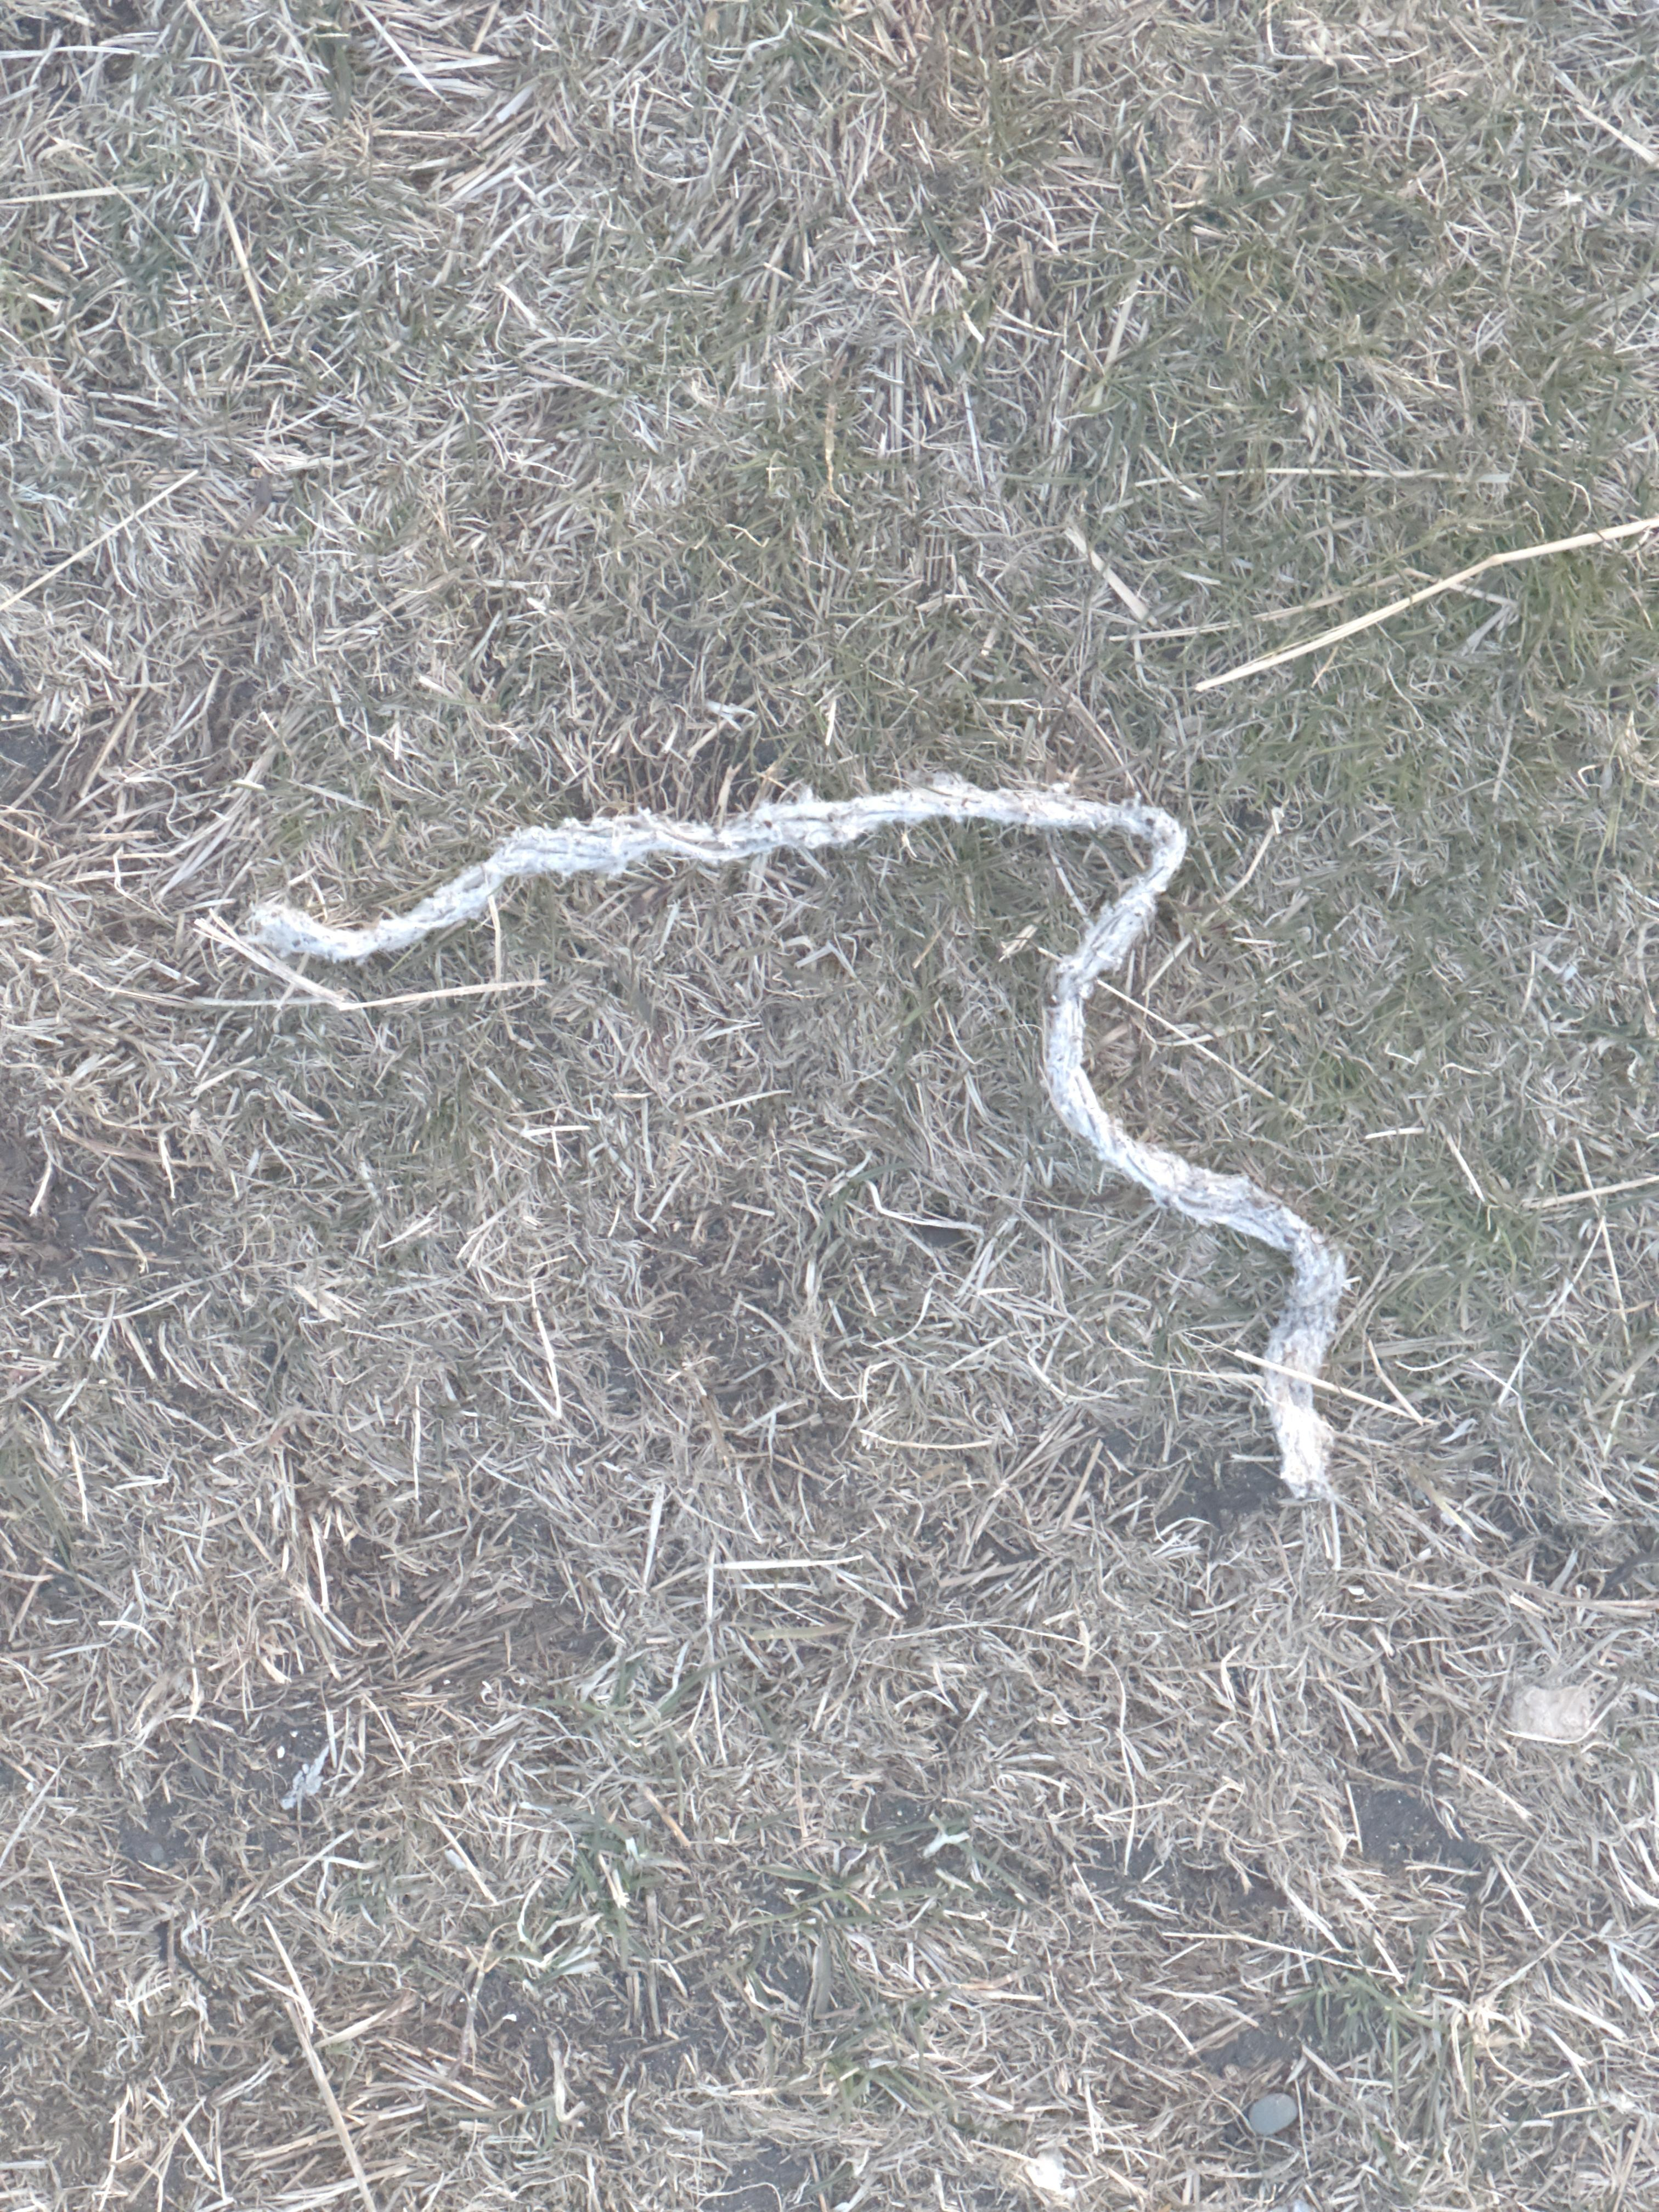trash: (251, 777, 1349, 1500)
